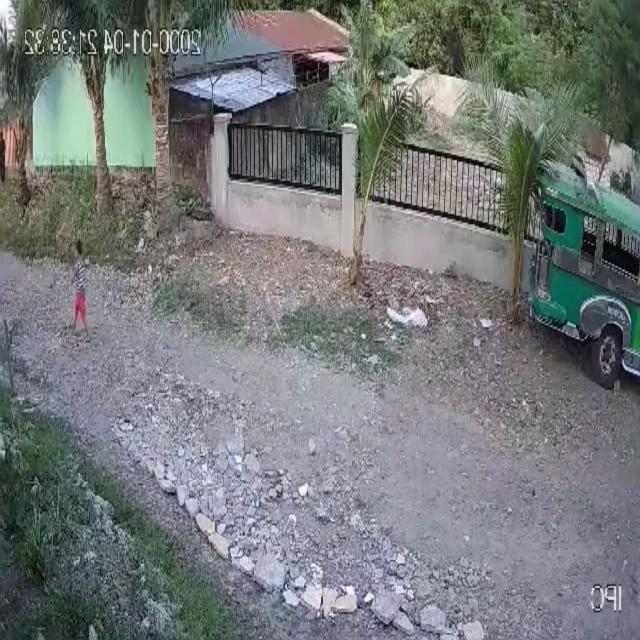walking: (68, 237, 95, 346)
